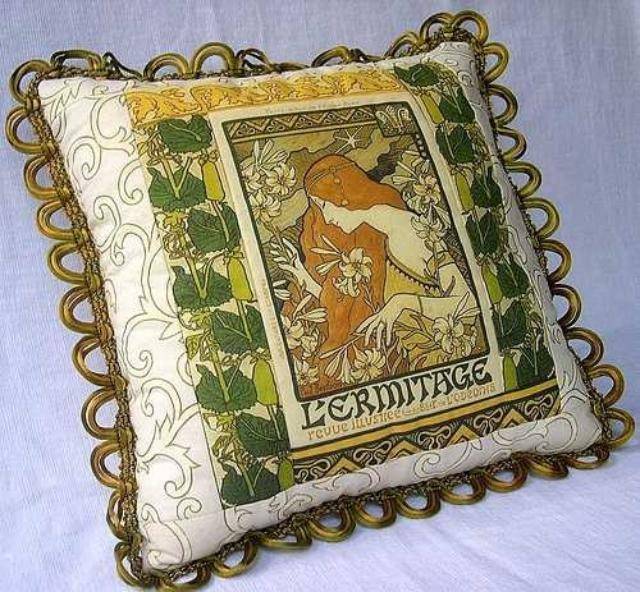pillow: (5, 13, 633, 587)
